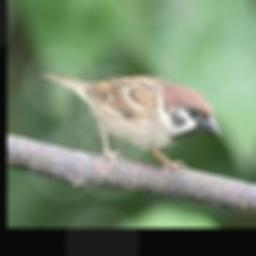Sparrow: (39, 72, 221, 171)
